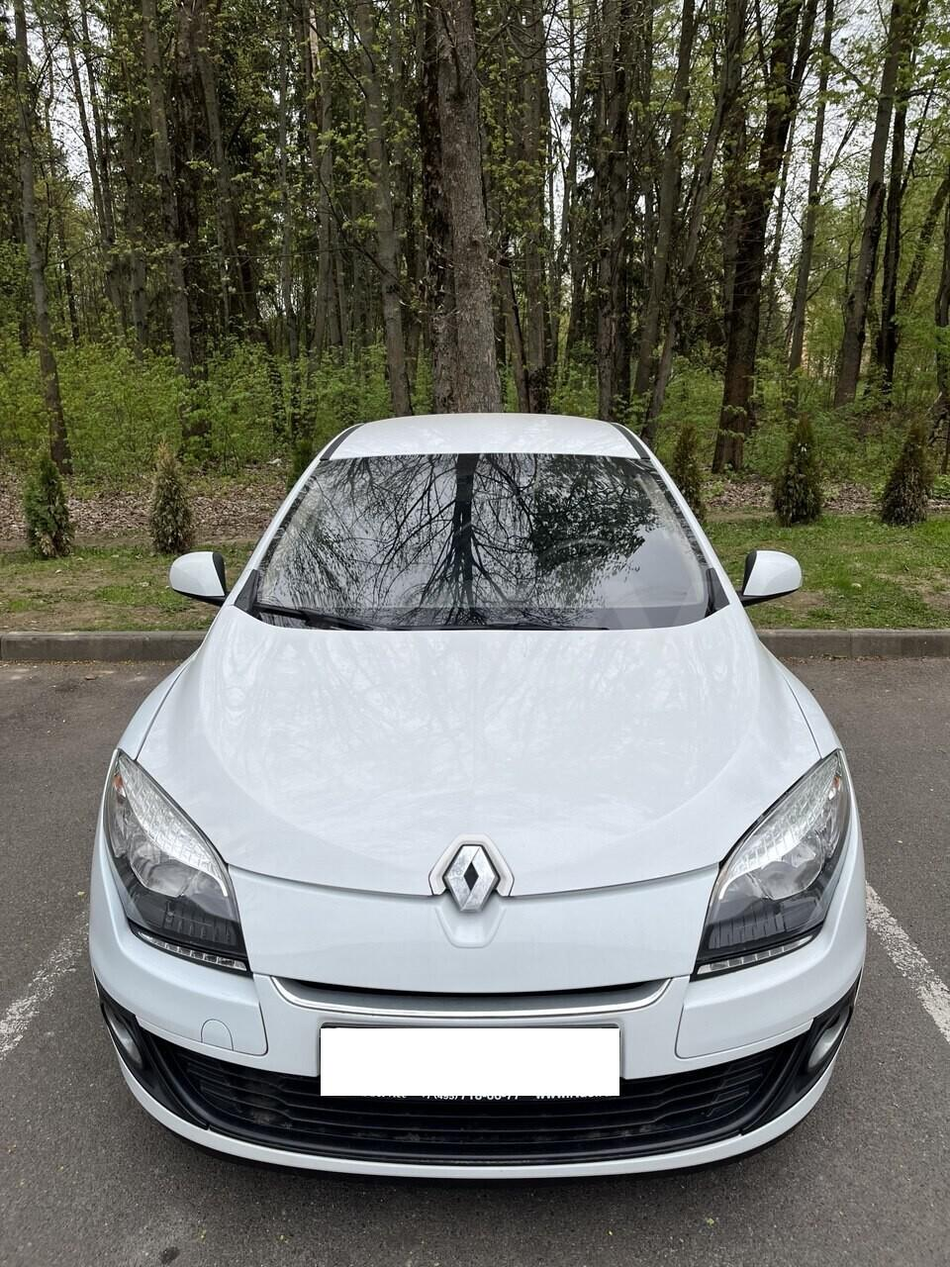Megane_2012-2014: (84, 409, 869, 1188)
